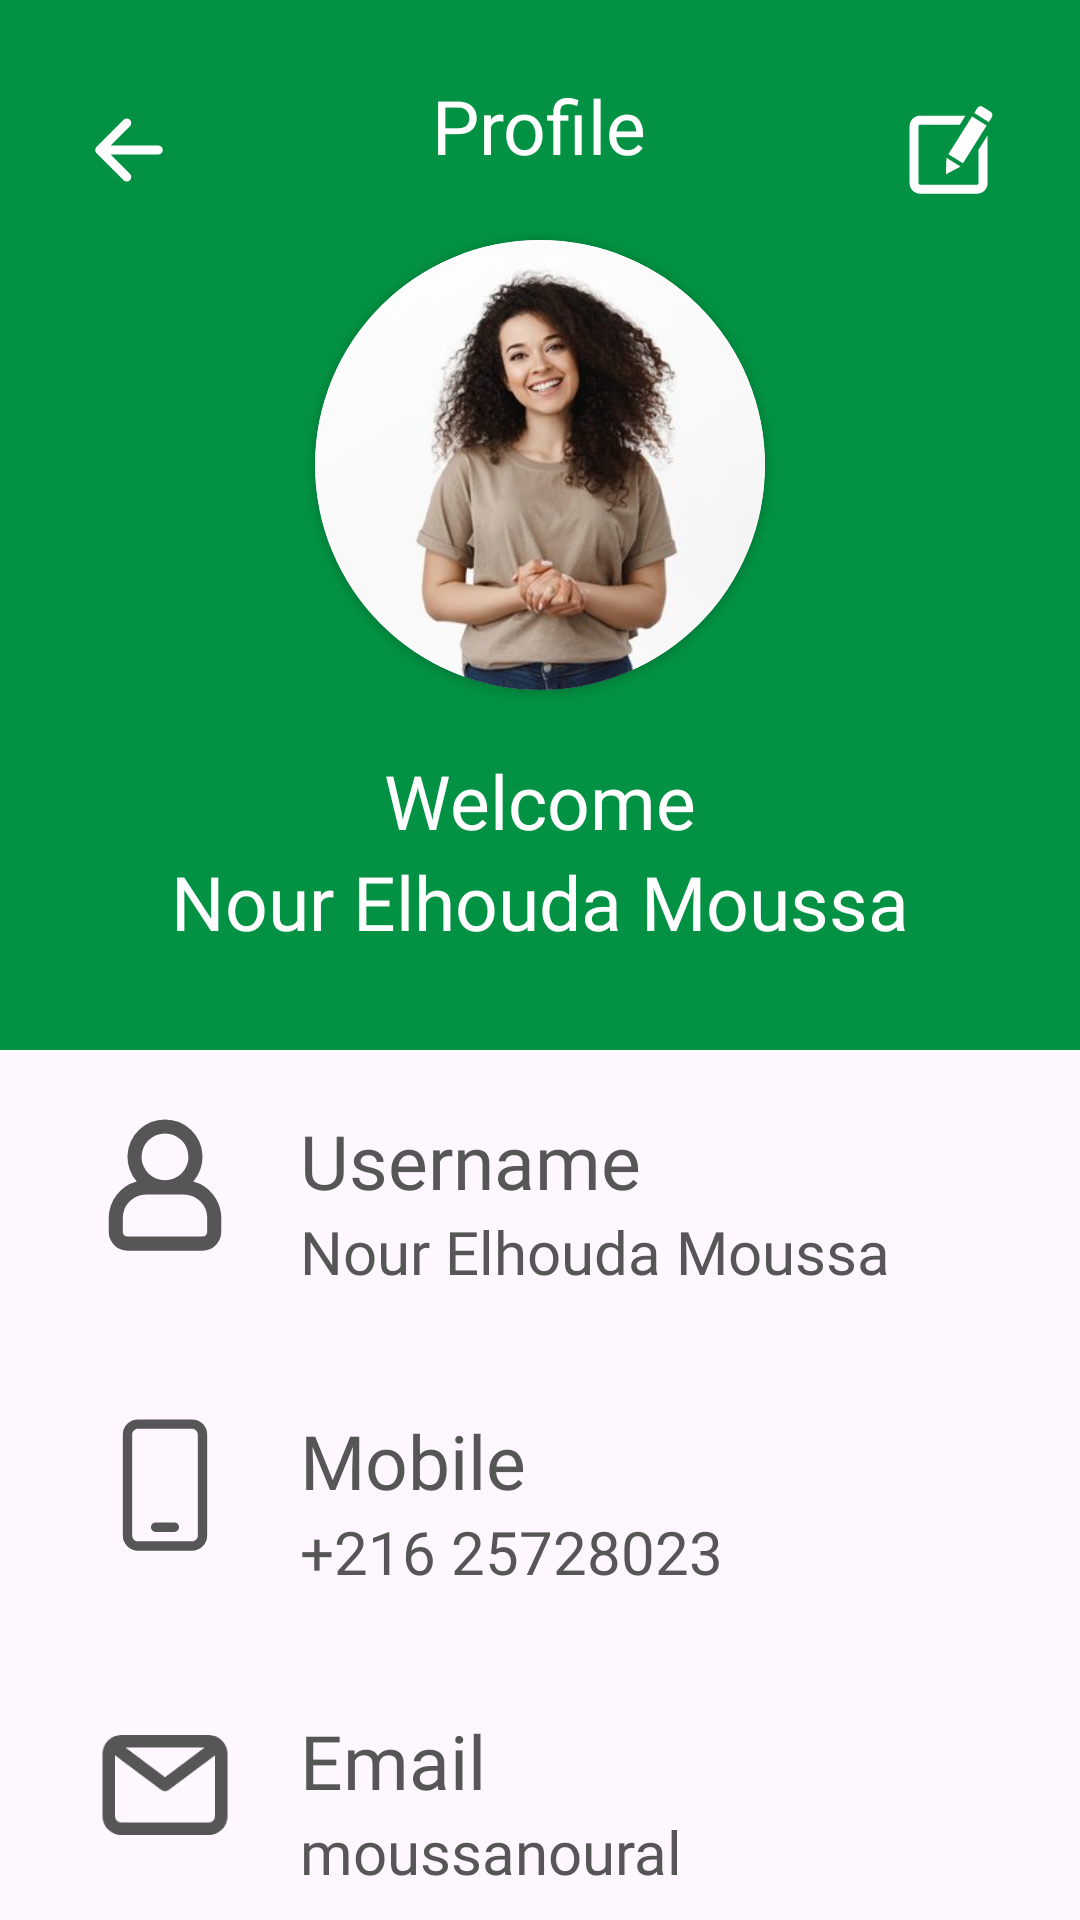

Screen size 1080x1920. Icon name, then its center in pixels as point (x, y):
arrow back: point (129, 150)
edit: point (951, 150)
phone: point (165, 1485)
